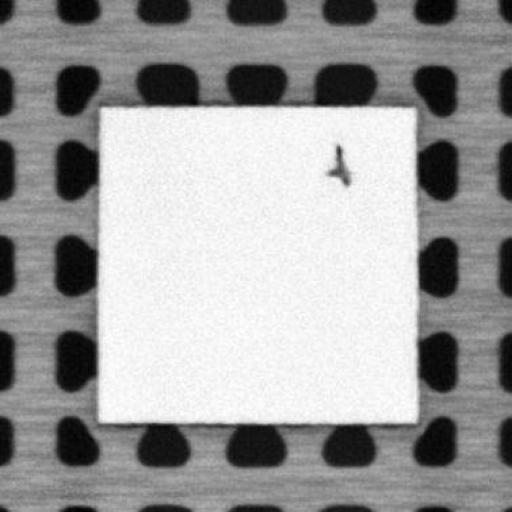DIE_INK: (322, 142, 352, 188)
